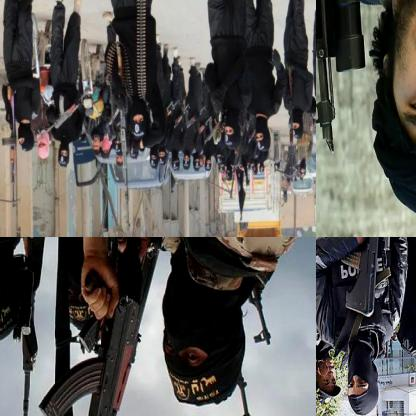rifle: (37, 286, 144, 415), (316, 0, 367, 153), (108, 46, 134, 232), (343, 237, 395, 319), (0, 85, 23, 206), (43, 89, 88, 133), (283, 65, 298, 145), (183, 104, 209, 131), (172, 100, 192, 132), (163, 96, 182, 115)
